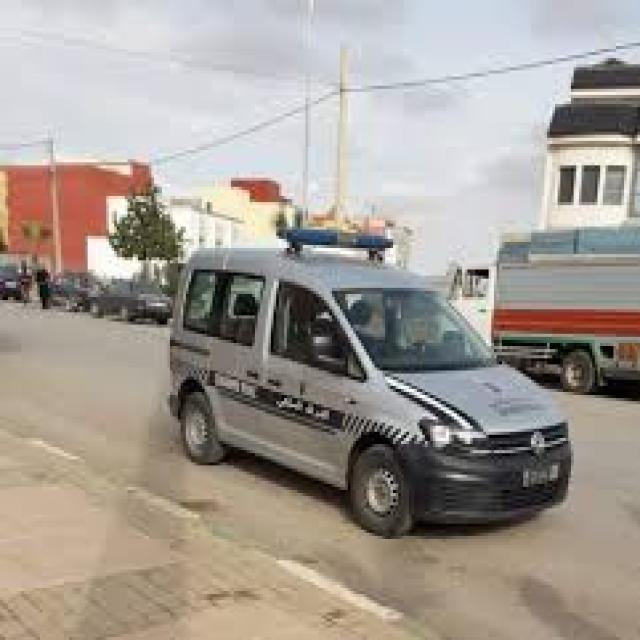gendarme car: (167, 222, 578, 546)
